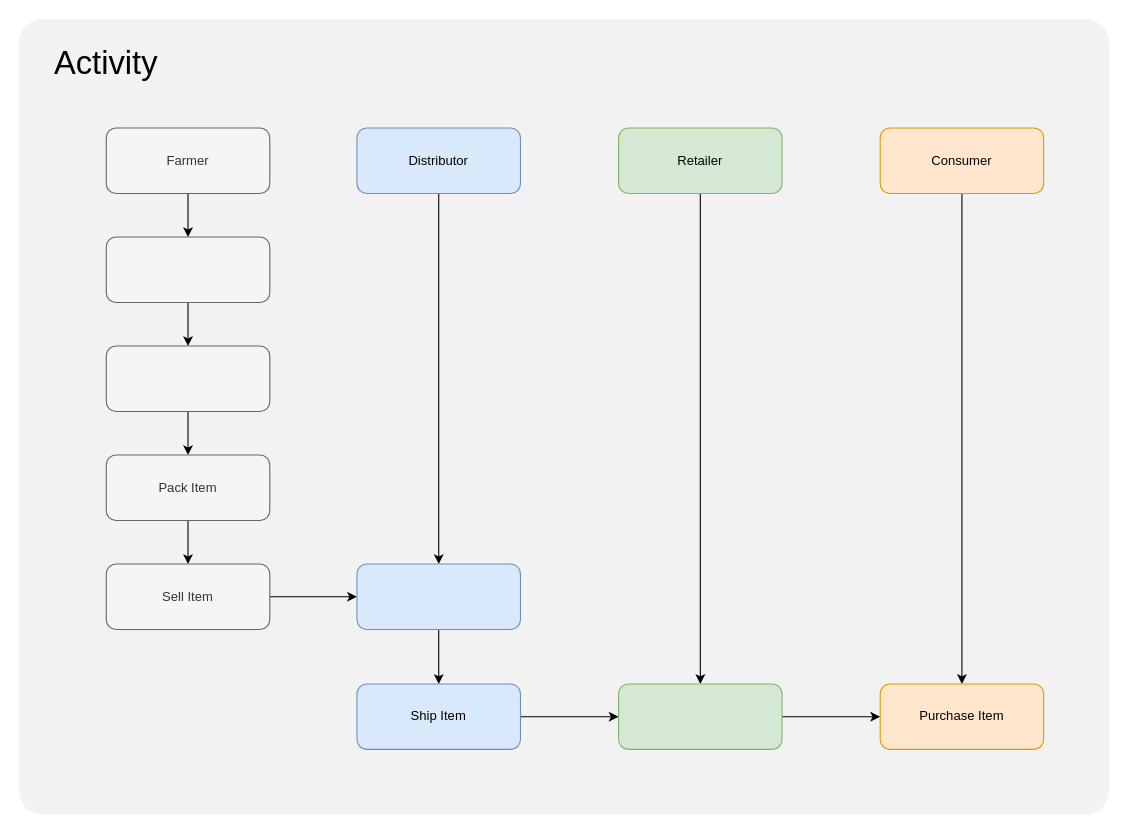
The diagram is 1127 pixels wide and 833 high, and some of its shapes have lost their labels. The shapes that lost their labels are listed below. From the top down, each one's box as (x1, y1, x2, y2) in pixels, then its label:
(105, 236, 270, 302): Harvest Item
(105, 345, 270, 411): Process Item
(356, 563, 520, 629): Buy Item
(617, 683, 782, 749): Receive Item
